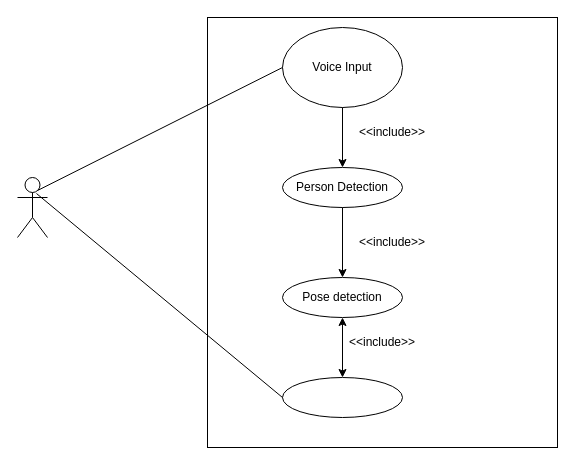
Image size: 575x465. Some labels were removed from this diagram. The shapes that lost their labels are listed below. From the top down, each one's centre as x and y in pixels, then its label:
point (32, 207): Blind
point (342, 397): activity recognization
